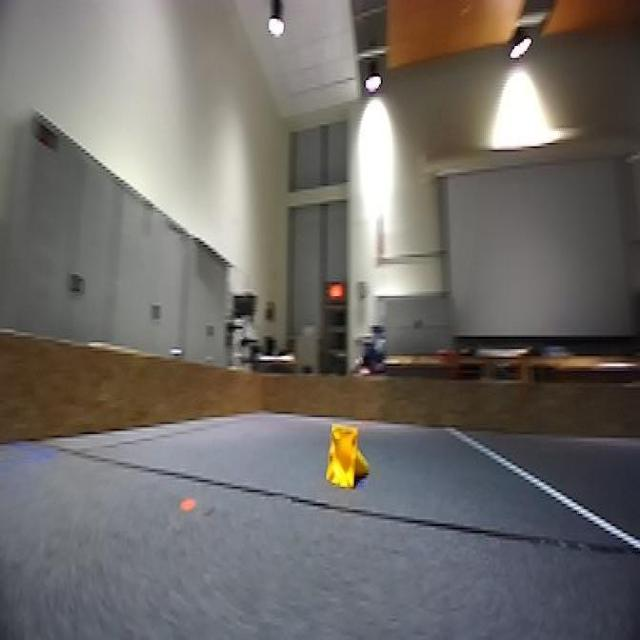frc_cone: (322, 422, 371, 499)
